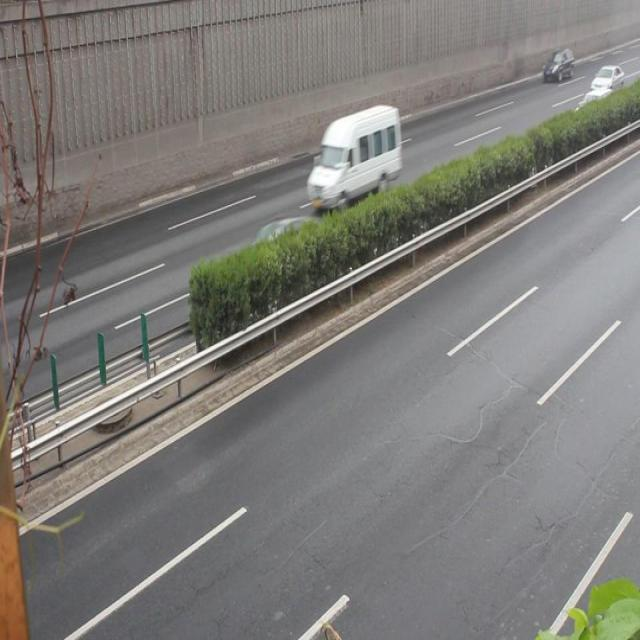car: (232, 215, 315, 295), (570, 87, 616, 135), (540, 46, 574, 87)
truck: (306, 106, 401, 209)
